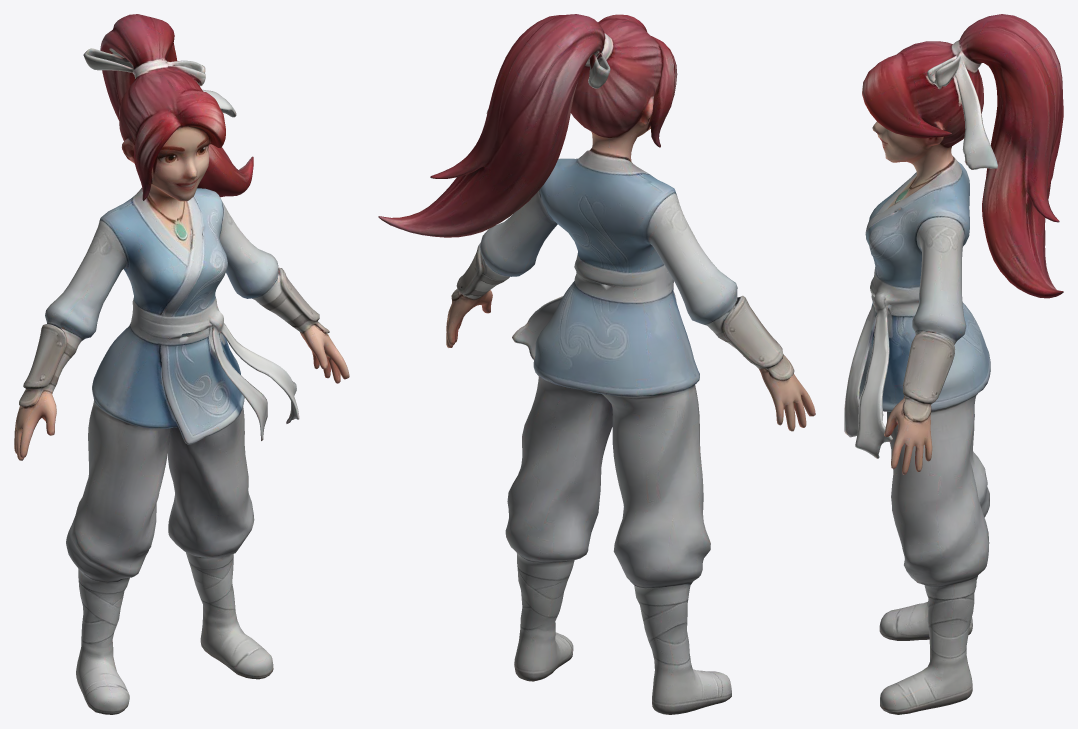
The model's file is korean.glb.
The picture shows the model from 3 angles, left to right: view 1: azimuth 30°, elevation 25°; view 2: azimuth 150°, elevation 25°; view 3: azimuth 270°, elevation 25°; orthographic projection. The views are drawn at different scales.
Parts seen in each view (by area): view 1: tripo_node_b6d68292-94e2-487e-8540-99129e80faf3; view 2: tripo_node_b6d68292-94e2-487e-8540-99129e80faf3; view 3: tripo_node_b6d68292-94e2-487e-8540-99129e80faf3.
Boxes of the visible parts, left/top/right/bottom form: tripo_node_b6d68292-94e2-487e-8540-99129e80faf3: left=14, top=14, right=349, bottom=714; tripo_node_b6d68292-94e2-487e-8540-99129e80faf3: left=378, top=14, right=815, bottom=714; tripo_node_b6d68292-94e2-487e-8540-99129e80faf3: left=844, top=14, right=1063, bottom=714.
Size of the model in its own units: 0.5306 by 0.9791 by 0.2961.
Materials: 1 (1 with a texture image).
